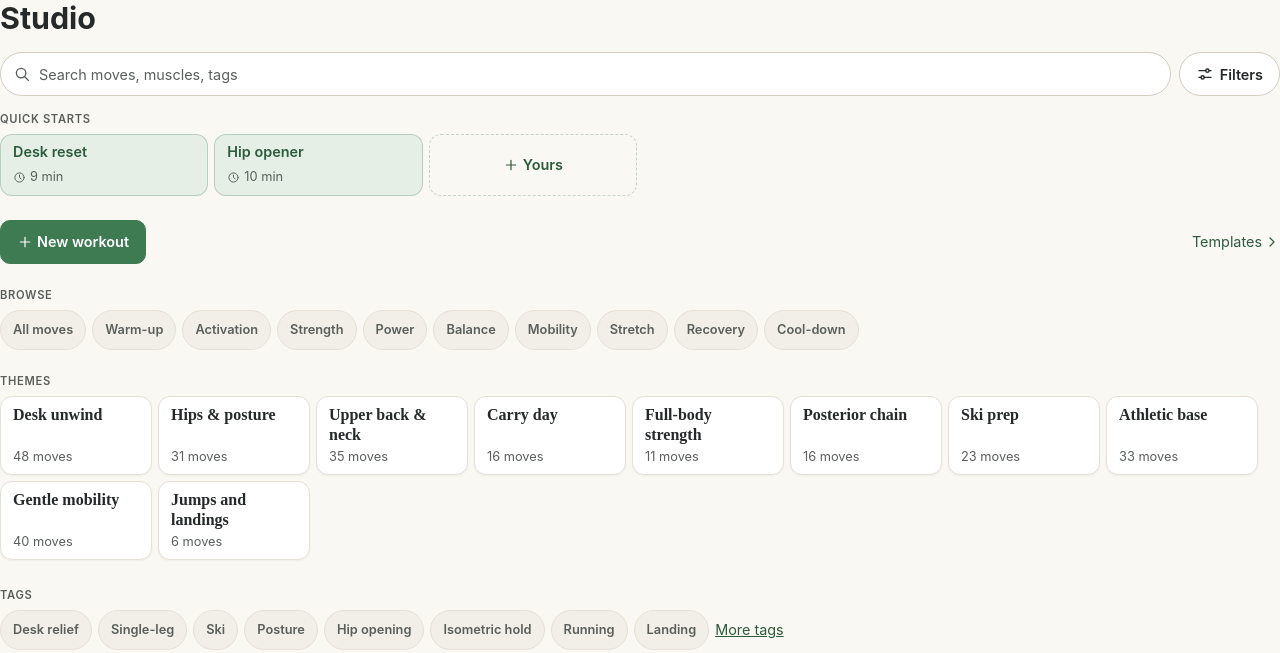
Scenario: typing filters, live › removing the last chip with nothing typed closes the list: focus goes to the field, never to the page
Click the button "Strength". click: click(317, 330)
box: [277,310,356,350]
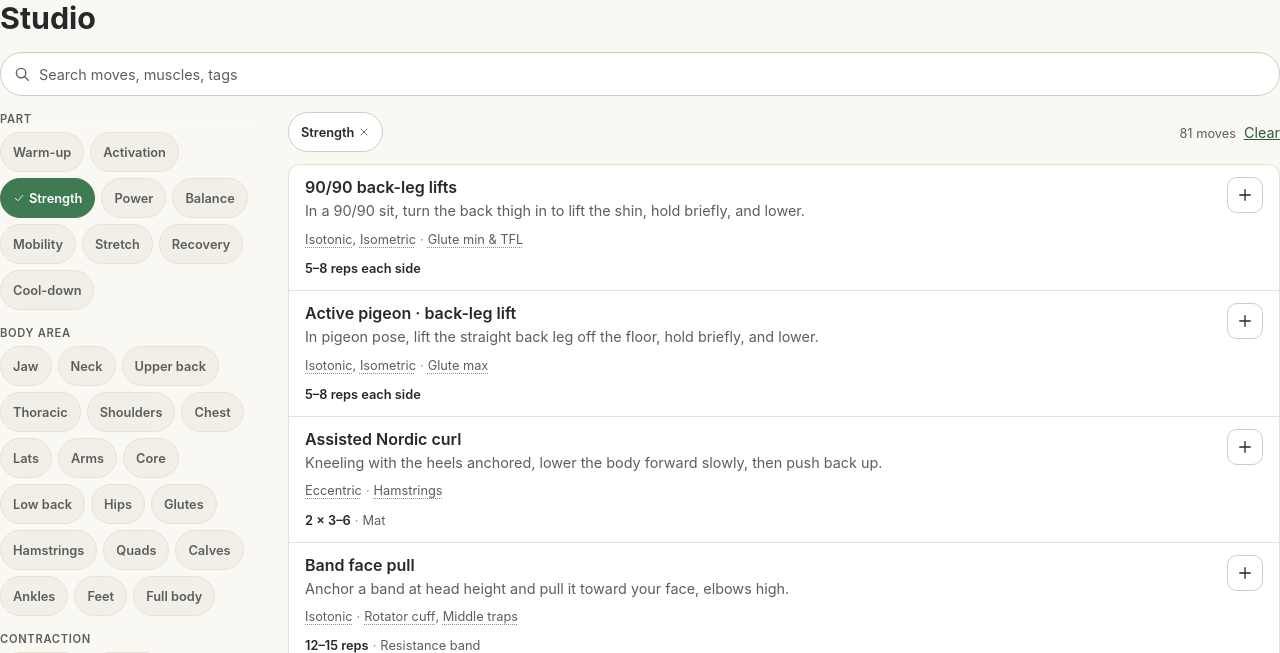
Click the button "Strength" in the row of "81 moves". click: click(336, 132)
box: [288,112,383,152]
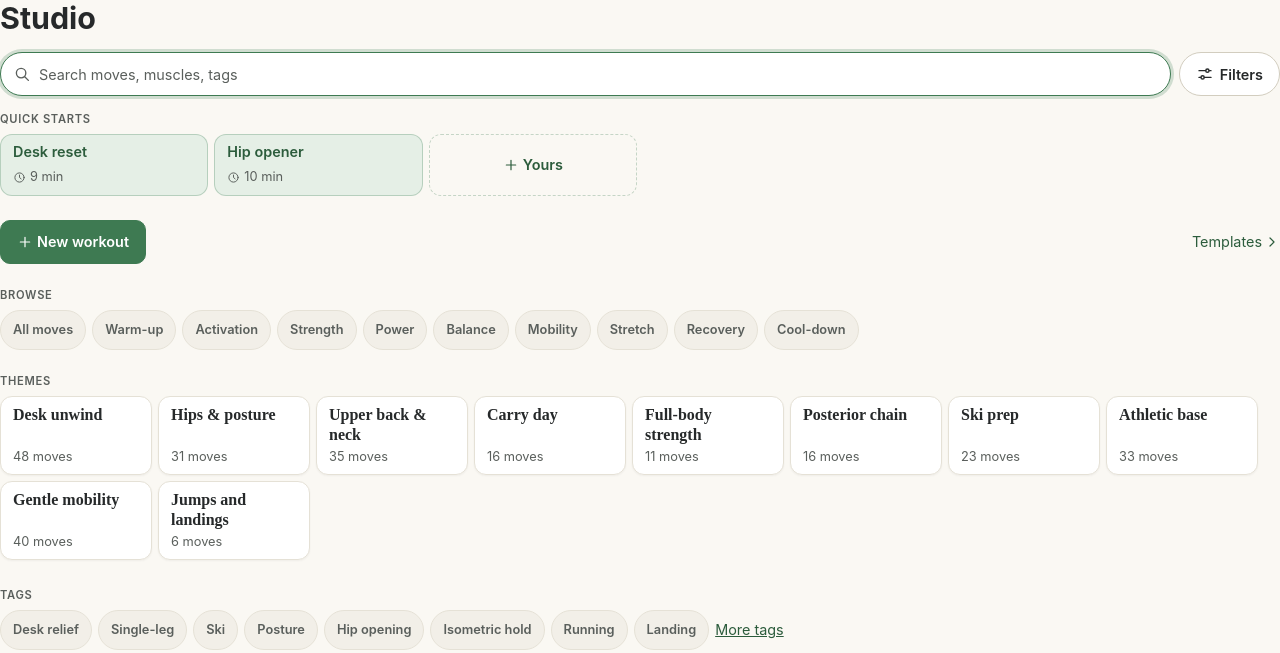
Expected: the text "Quick starts" is shown, [0,112,91,126]
